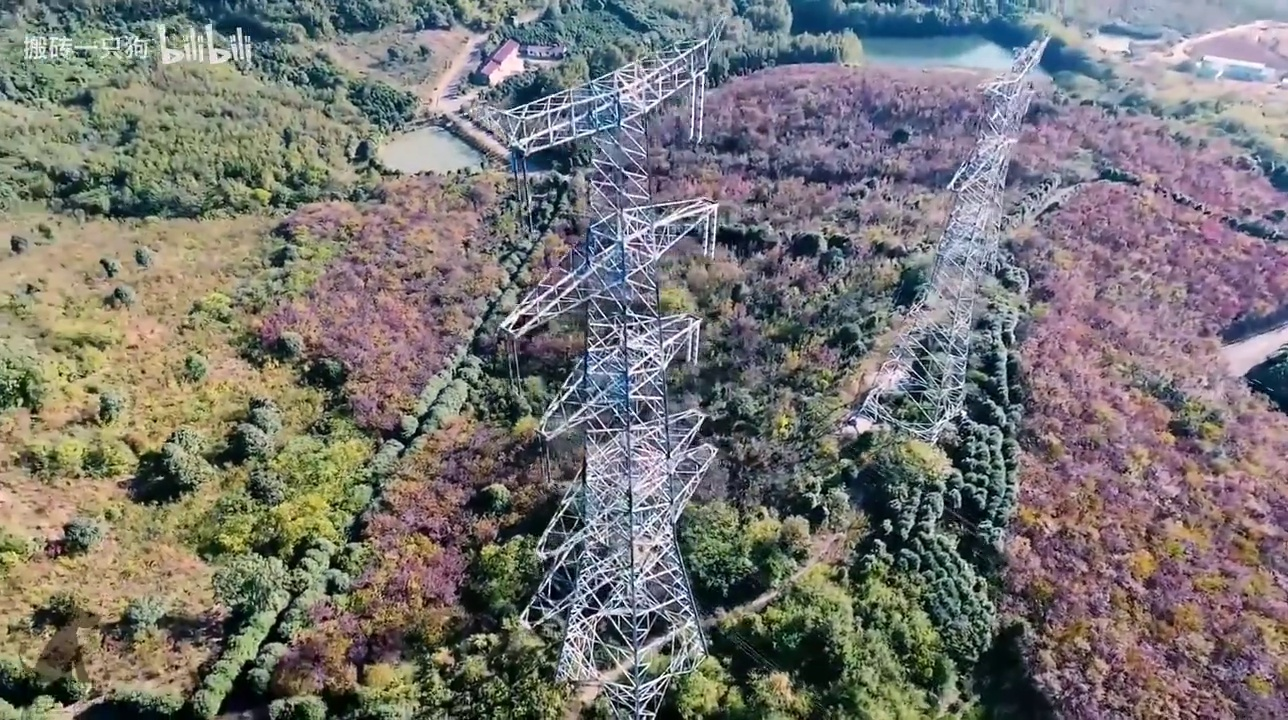tower_body: (463, 14, 776, 720)
tower_foot: (539, 555, 707, 719)
tower_head: (479, 22, 761, 172)
